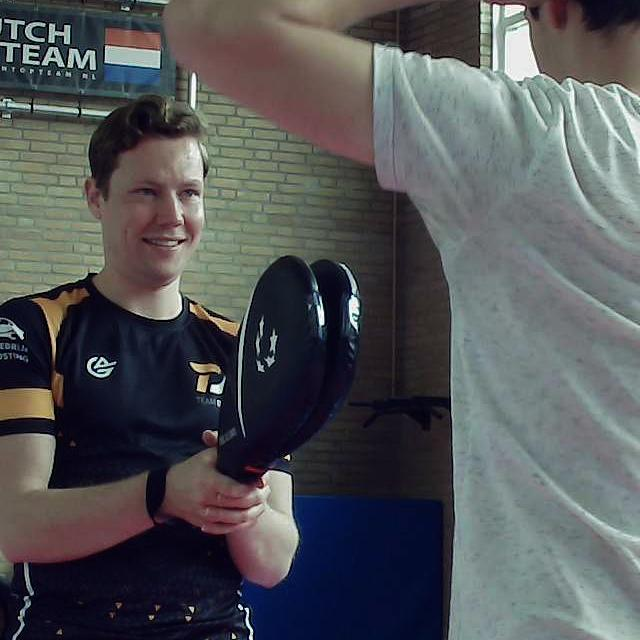paddle: (215, 255, 363, 484)
